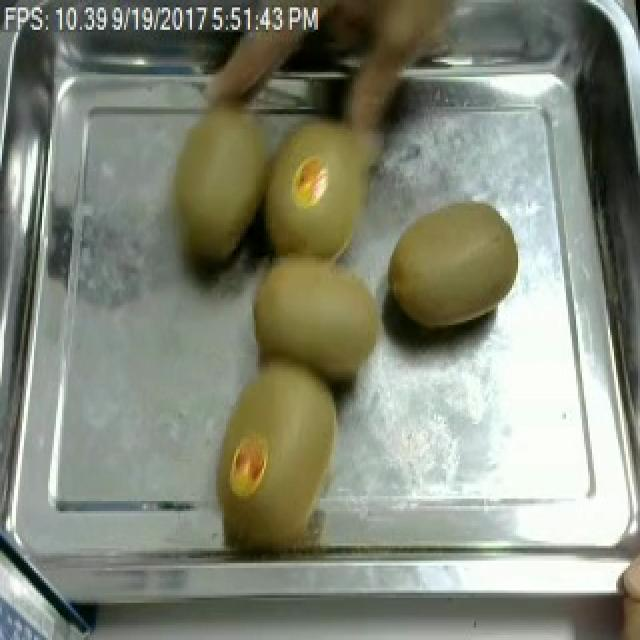Fruit: (210, 352, 352, 546), (244, 240, 396, 400), (380, 196, 528, 337), (160, 112, 264, 275)
